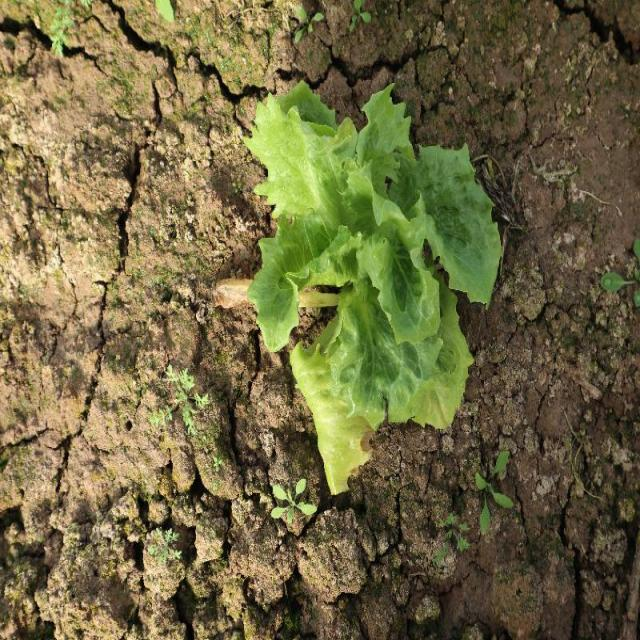crop: (257, 90, 501, 493)
